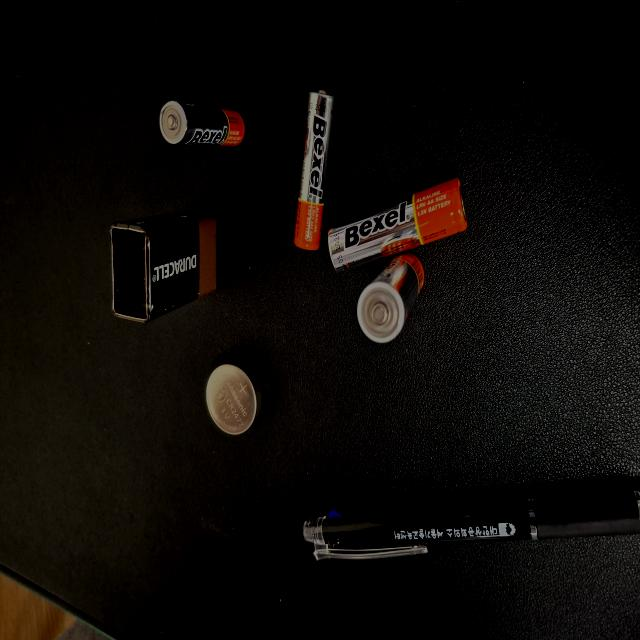9V: (238, 146, 322, 290)
AA: (278, 437, 346, 621), (222, 476, 290, 565)
AAA: (292, 392, 410, 447), (370, 213, 404, 326)
COIN: (154, 274, 210, 348)
